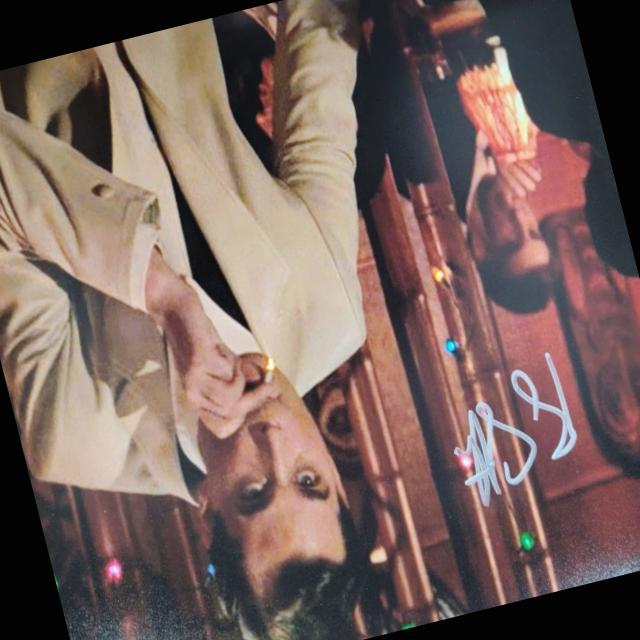cigarette: (246, 346, 286, 392)
